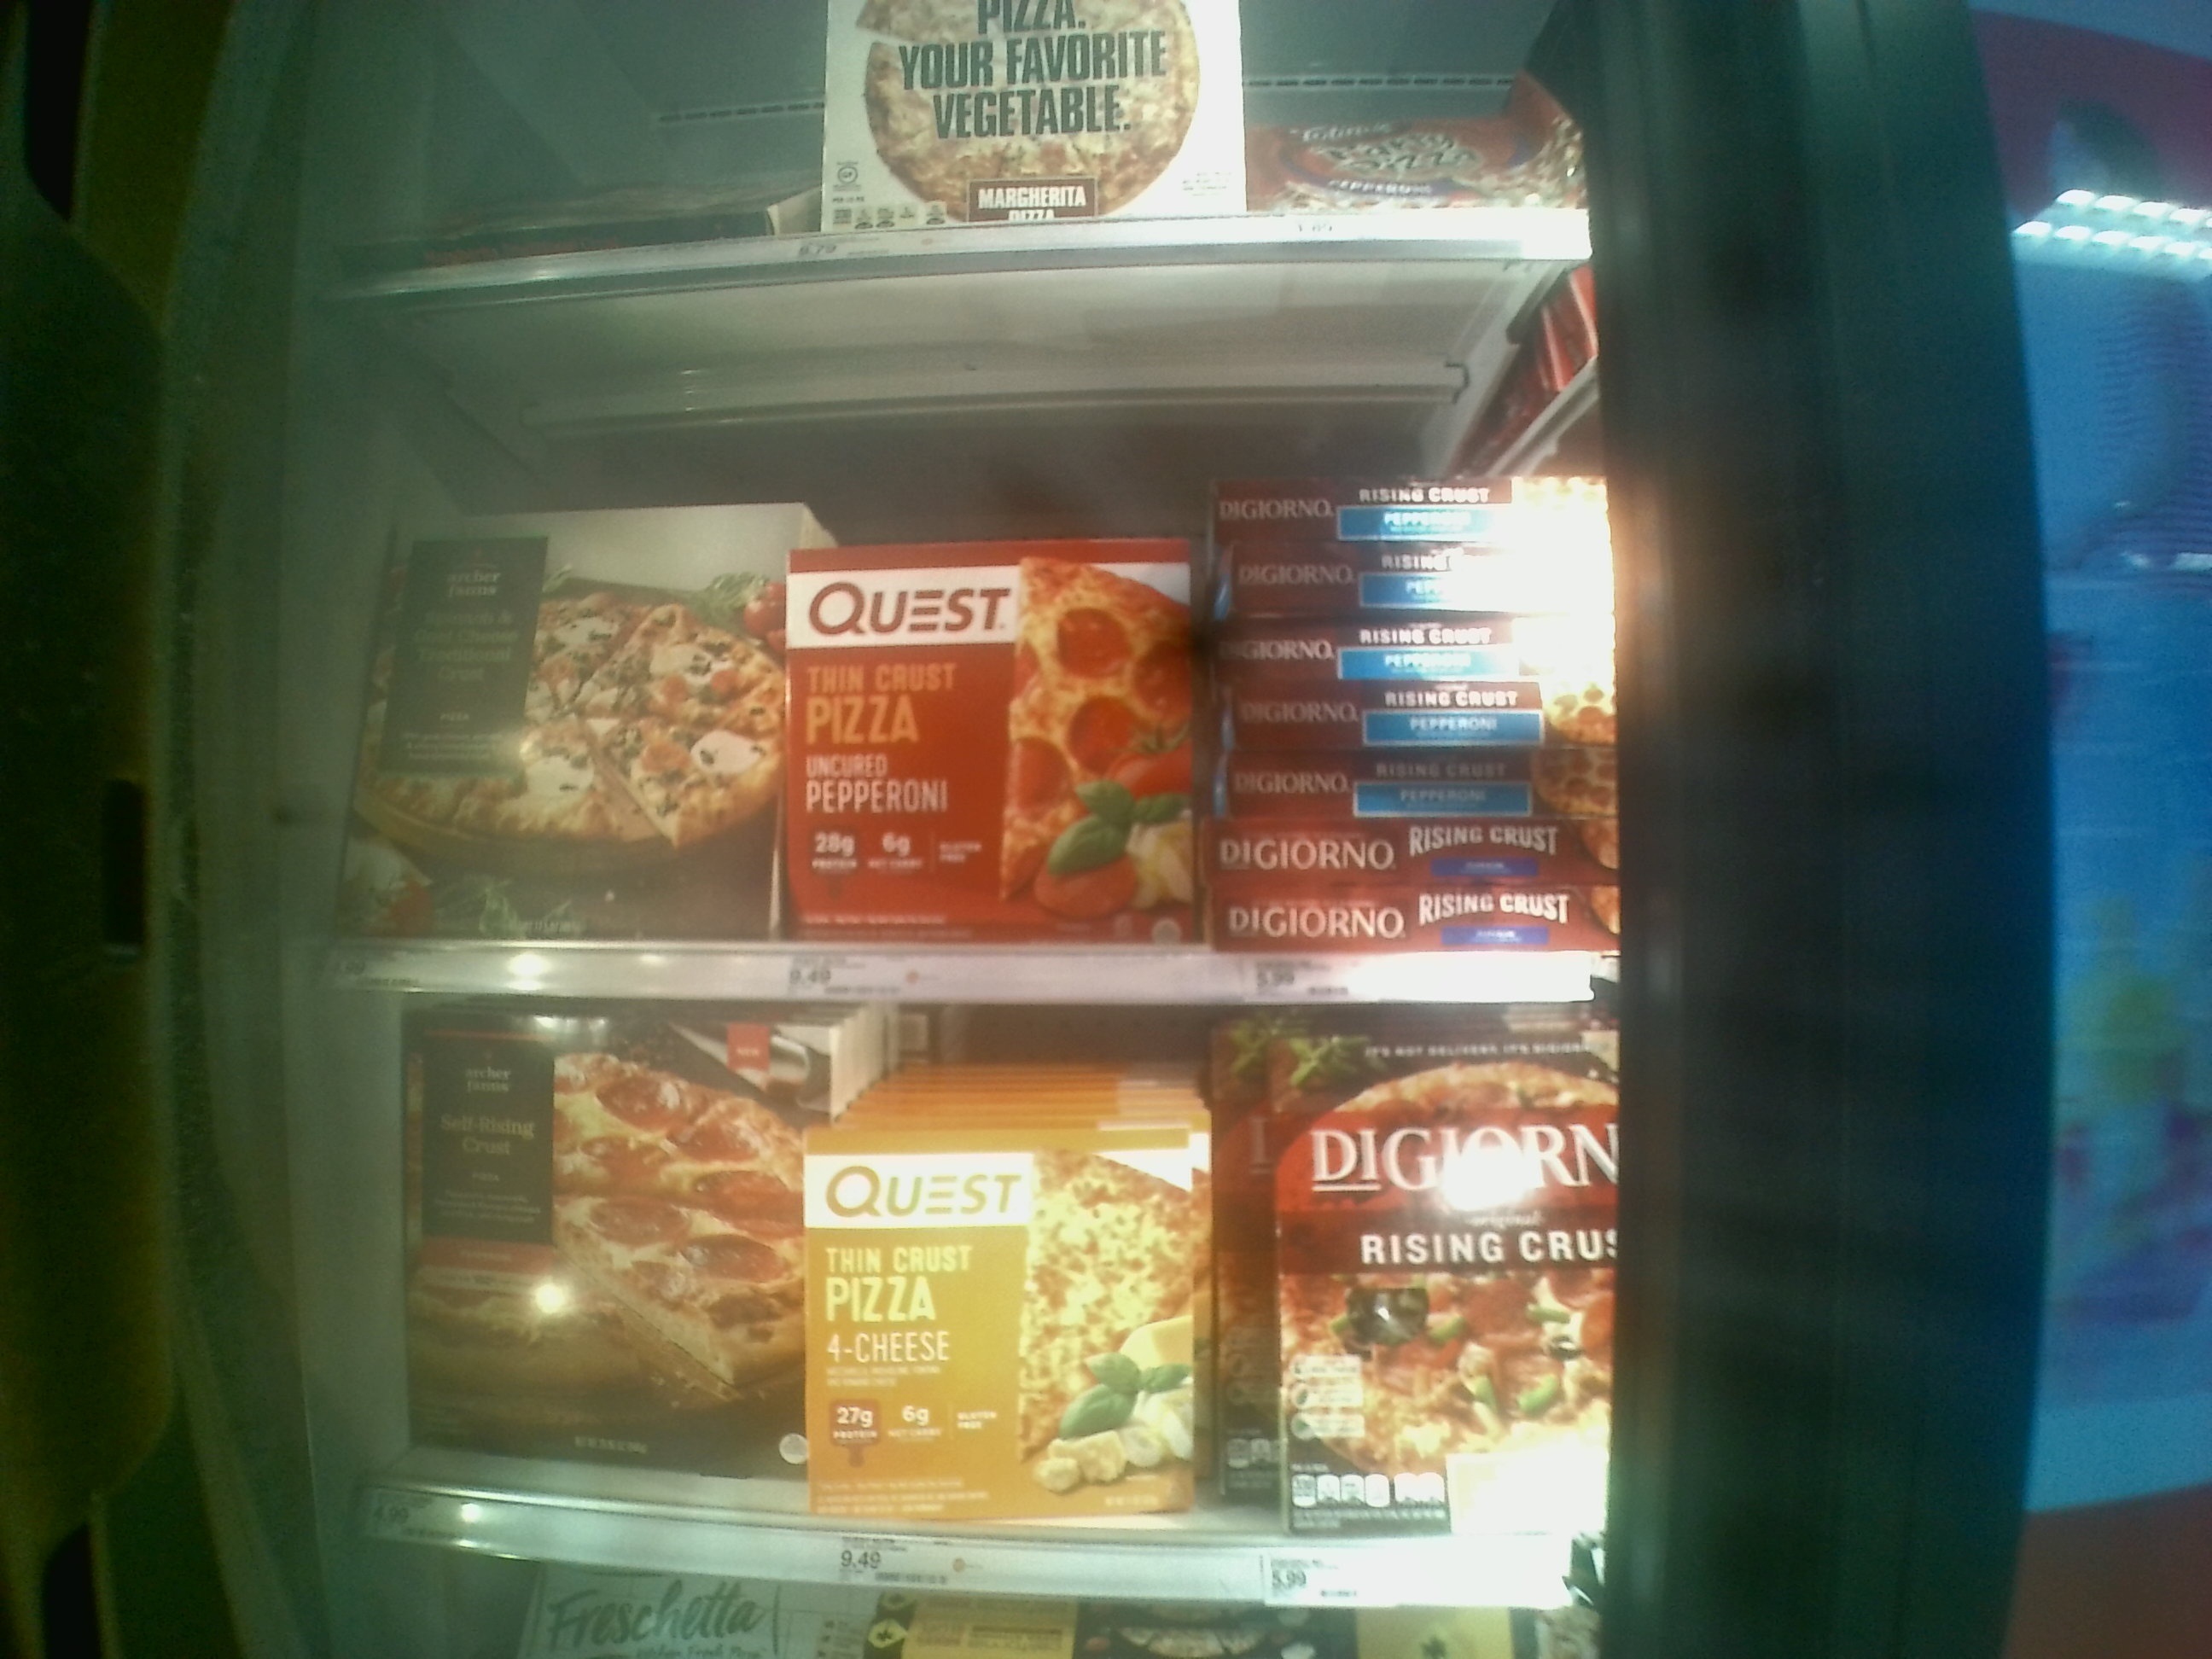pizza: (296, 511, 752, 939), (411, 1018, 796, 1466), (1280, 1051, 1618, 1535), (782, 547, 1197, 925), (817, 1145, 1209, 1530), (819, 5, 1237, 216), (1219, 746, 1592, 819), (1240, 552, 1609, 620), (1214, 826, 1606, 889), (1214, 484, 1597, 538), (1245, 892, 1597, 950), (1223, 678, 1576, 732), (1230, 627, 1566, 673)
